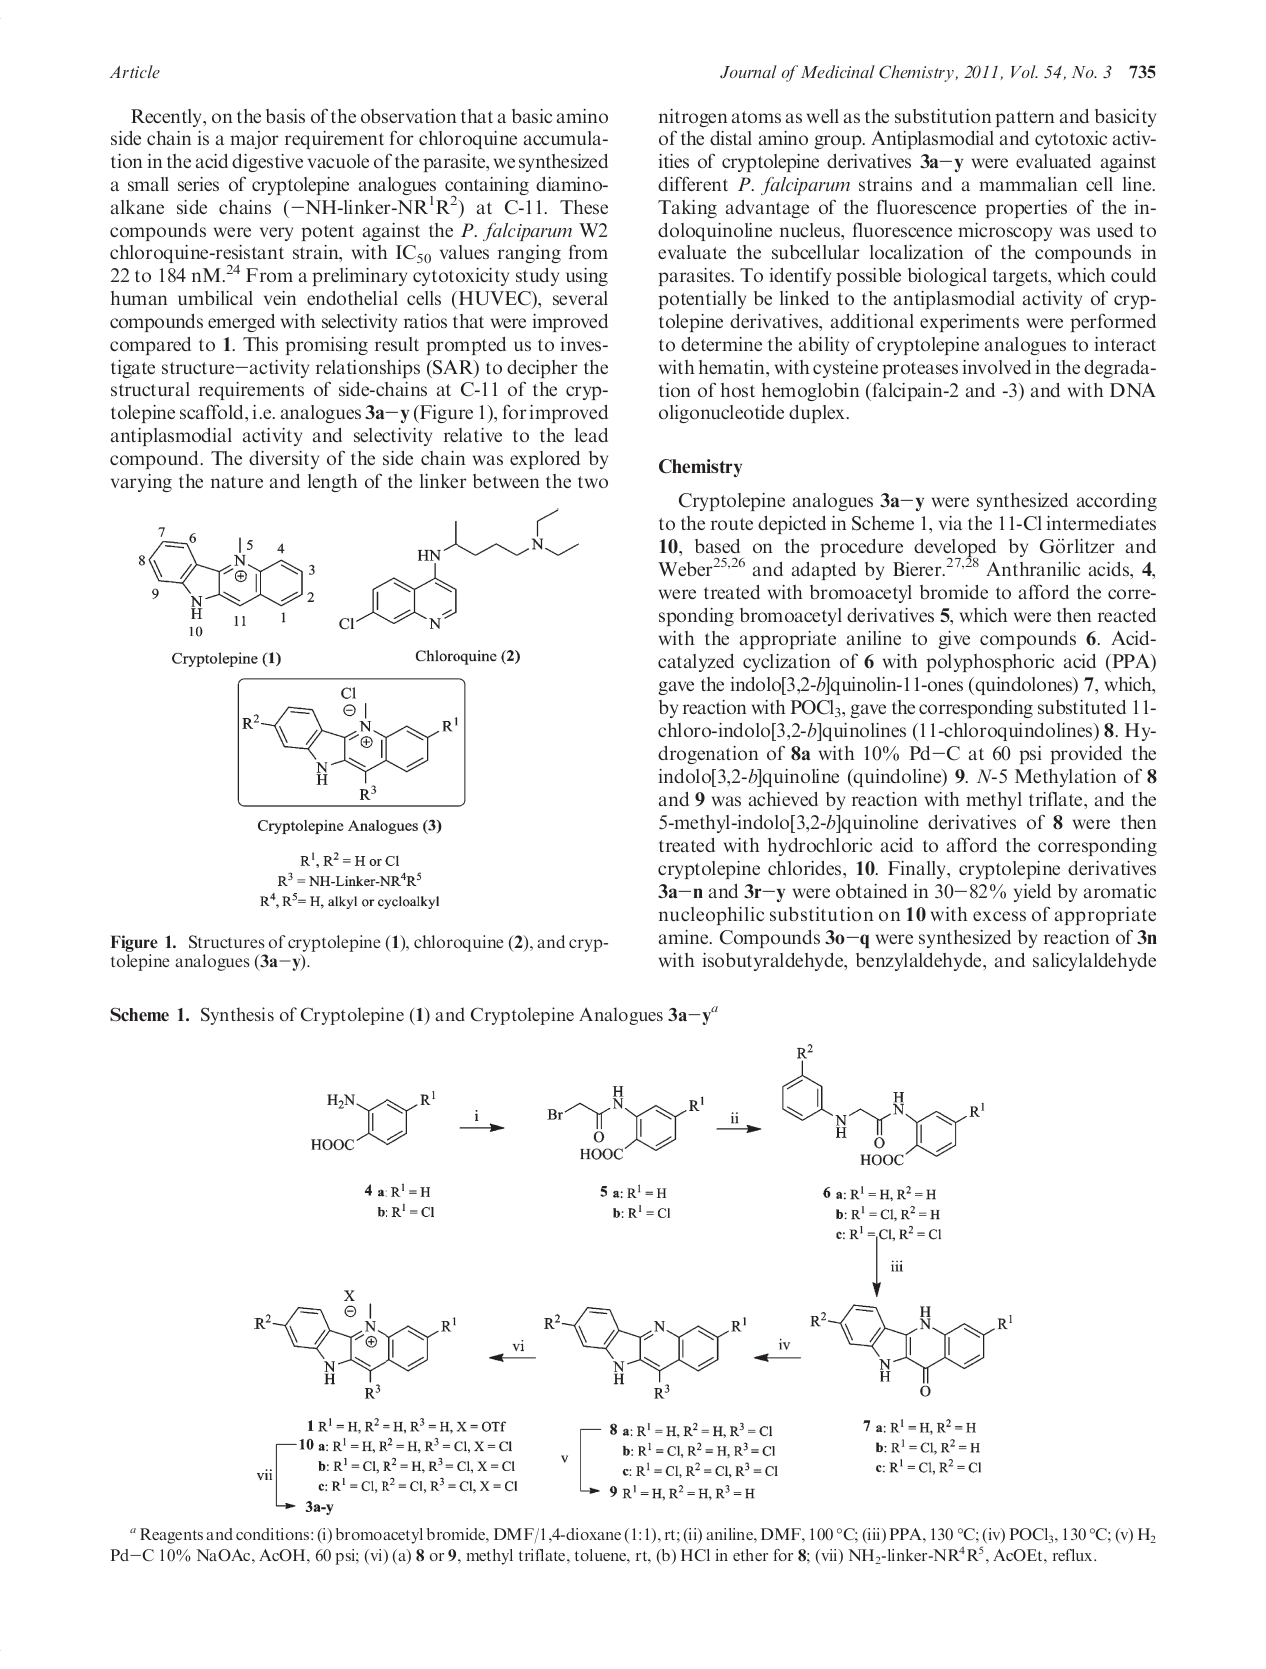exist_molecular: (338, 505, 578, 630), (778, 1035, 989, 1173), (239, 684, 461, 803), (245, 1285, 461, 1406), (537, 1305, 749, 1403), (802, 1303, 1015, 1400), (543, 1083, 707, 1166), (146, 536, 307, 618), (303, 1083, 438, 1164)
